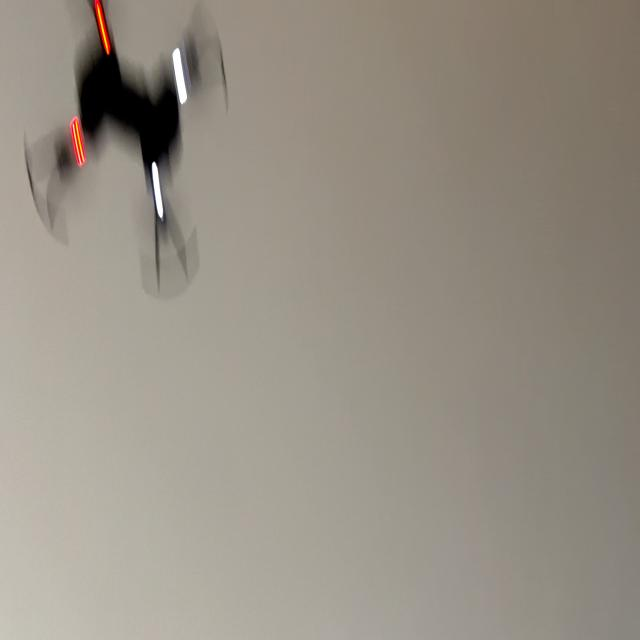drone: (16, 0, 242, 322)
